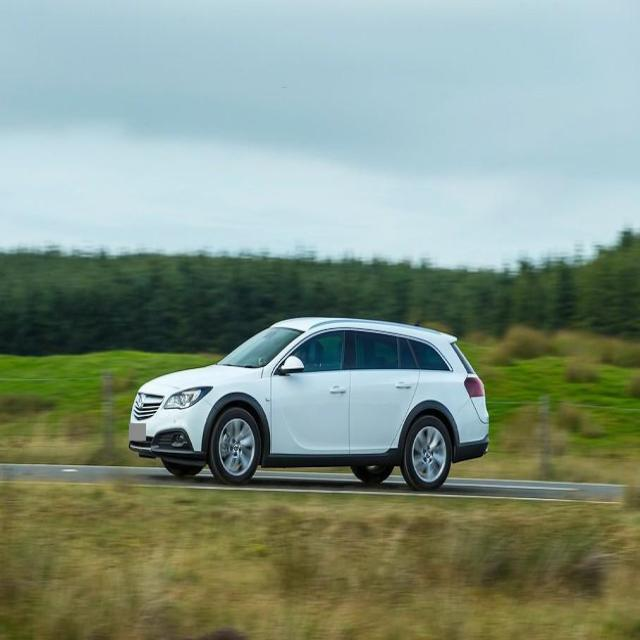back_left_side_light: (464, 374, 485, 397)
door: (348, 326, 423, 456)
front_bumper: (128, 394, 216, 458)
front_glass: (219, 325, 303, 368)
front_left_side_door: (270, 323, 352, 461)
front_left_side_light: (164, 384, 214, 410)
front_left_side_mirror: (280, 355, 306, 376)
rear_bumper: (454, 400, 490, 463)
wheel: (210, 408, 260, 486), (404, 418, 452, 490)
